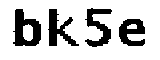5: (82, 4, 115, 53)
b: (12, 5, 42, 52)
e: (118, 17, 147, 51)
k: (44, 6, 81, 50)
